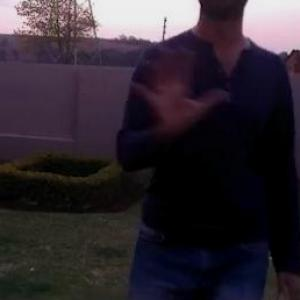follow_hand: (122, 35, 230, 137)
